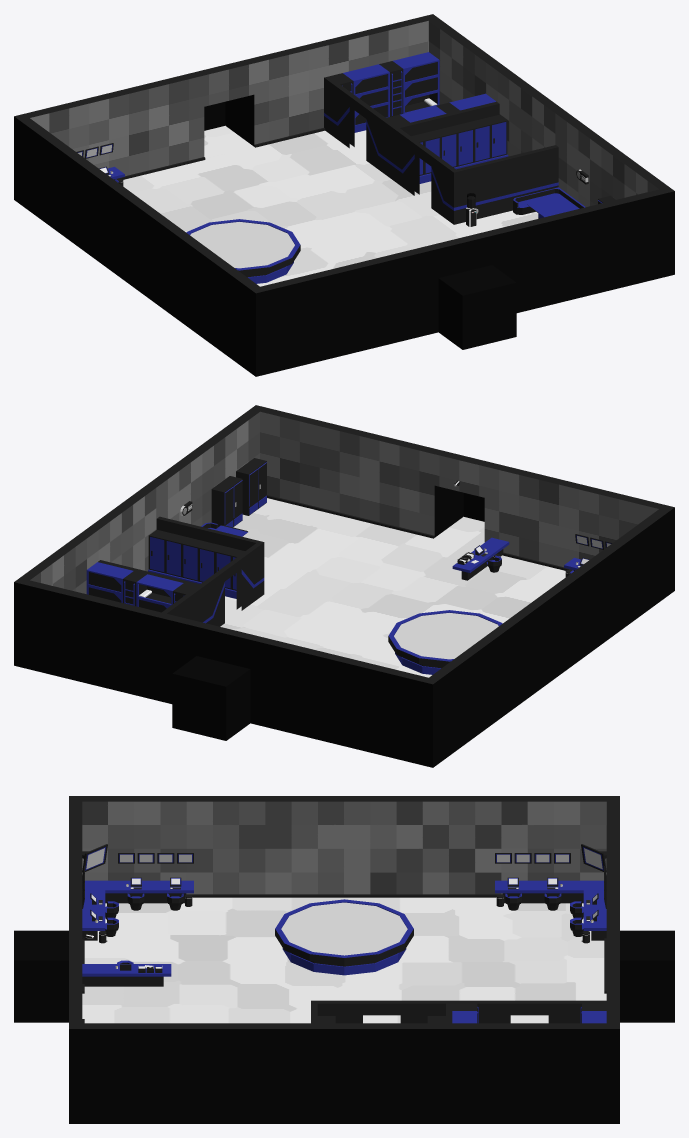
Rendered from Security_Room_1x1x2.fbx.
3 renders of one model, top to bottom at view 1: azimuth 30°, elevation 25°; view 2: azimuth 150°, elevation 25°; view 3: azimuth 270°, elevation 25°, orthographic. The views are drawn at different scales.
Visible parts, largest first — view 1: Security_Room_1x1x2; view 2: Security_Room_1x1x2; view 3: Security_Room_1x1x2.
Boxes of the visible parts, <box> form: Security_Room_1x1x2: <box>14,14,674,376</box>; Security_Room_1x1x2: <box>14,405,674,767</box>; Security_Room_1x1x2: <box>14,796,674,1123</box>.
Bounding box in the file's own units: 42 × 50.4 × 8.
